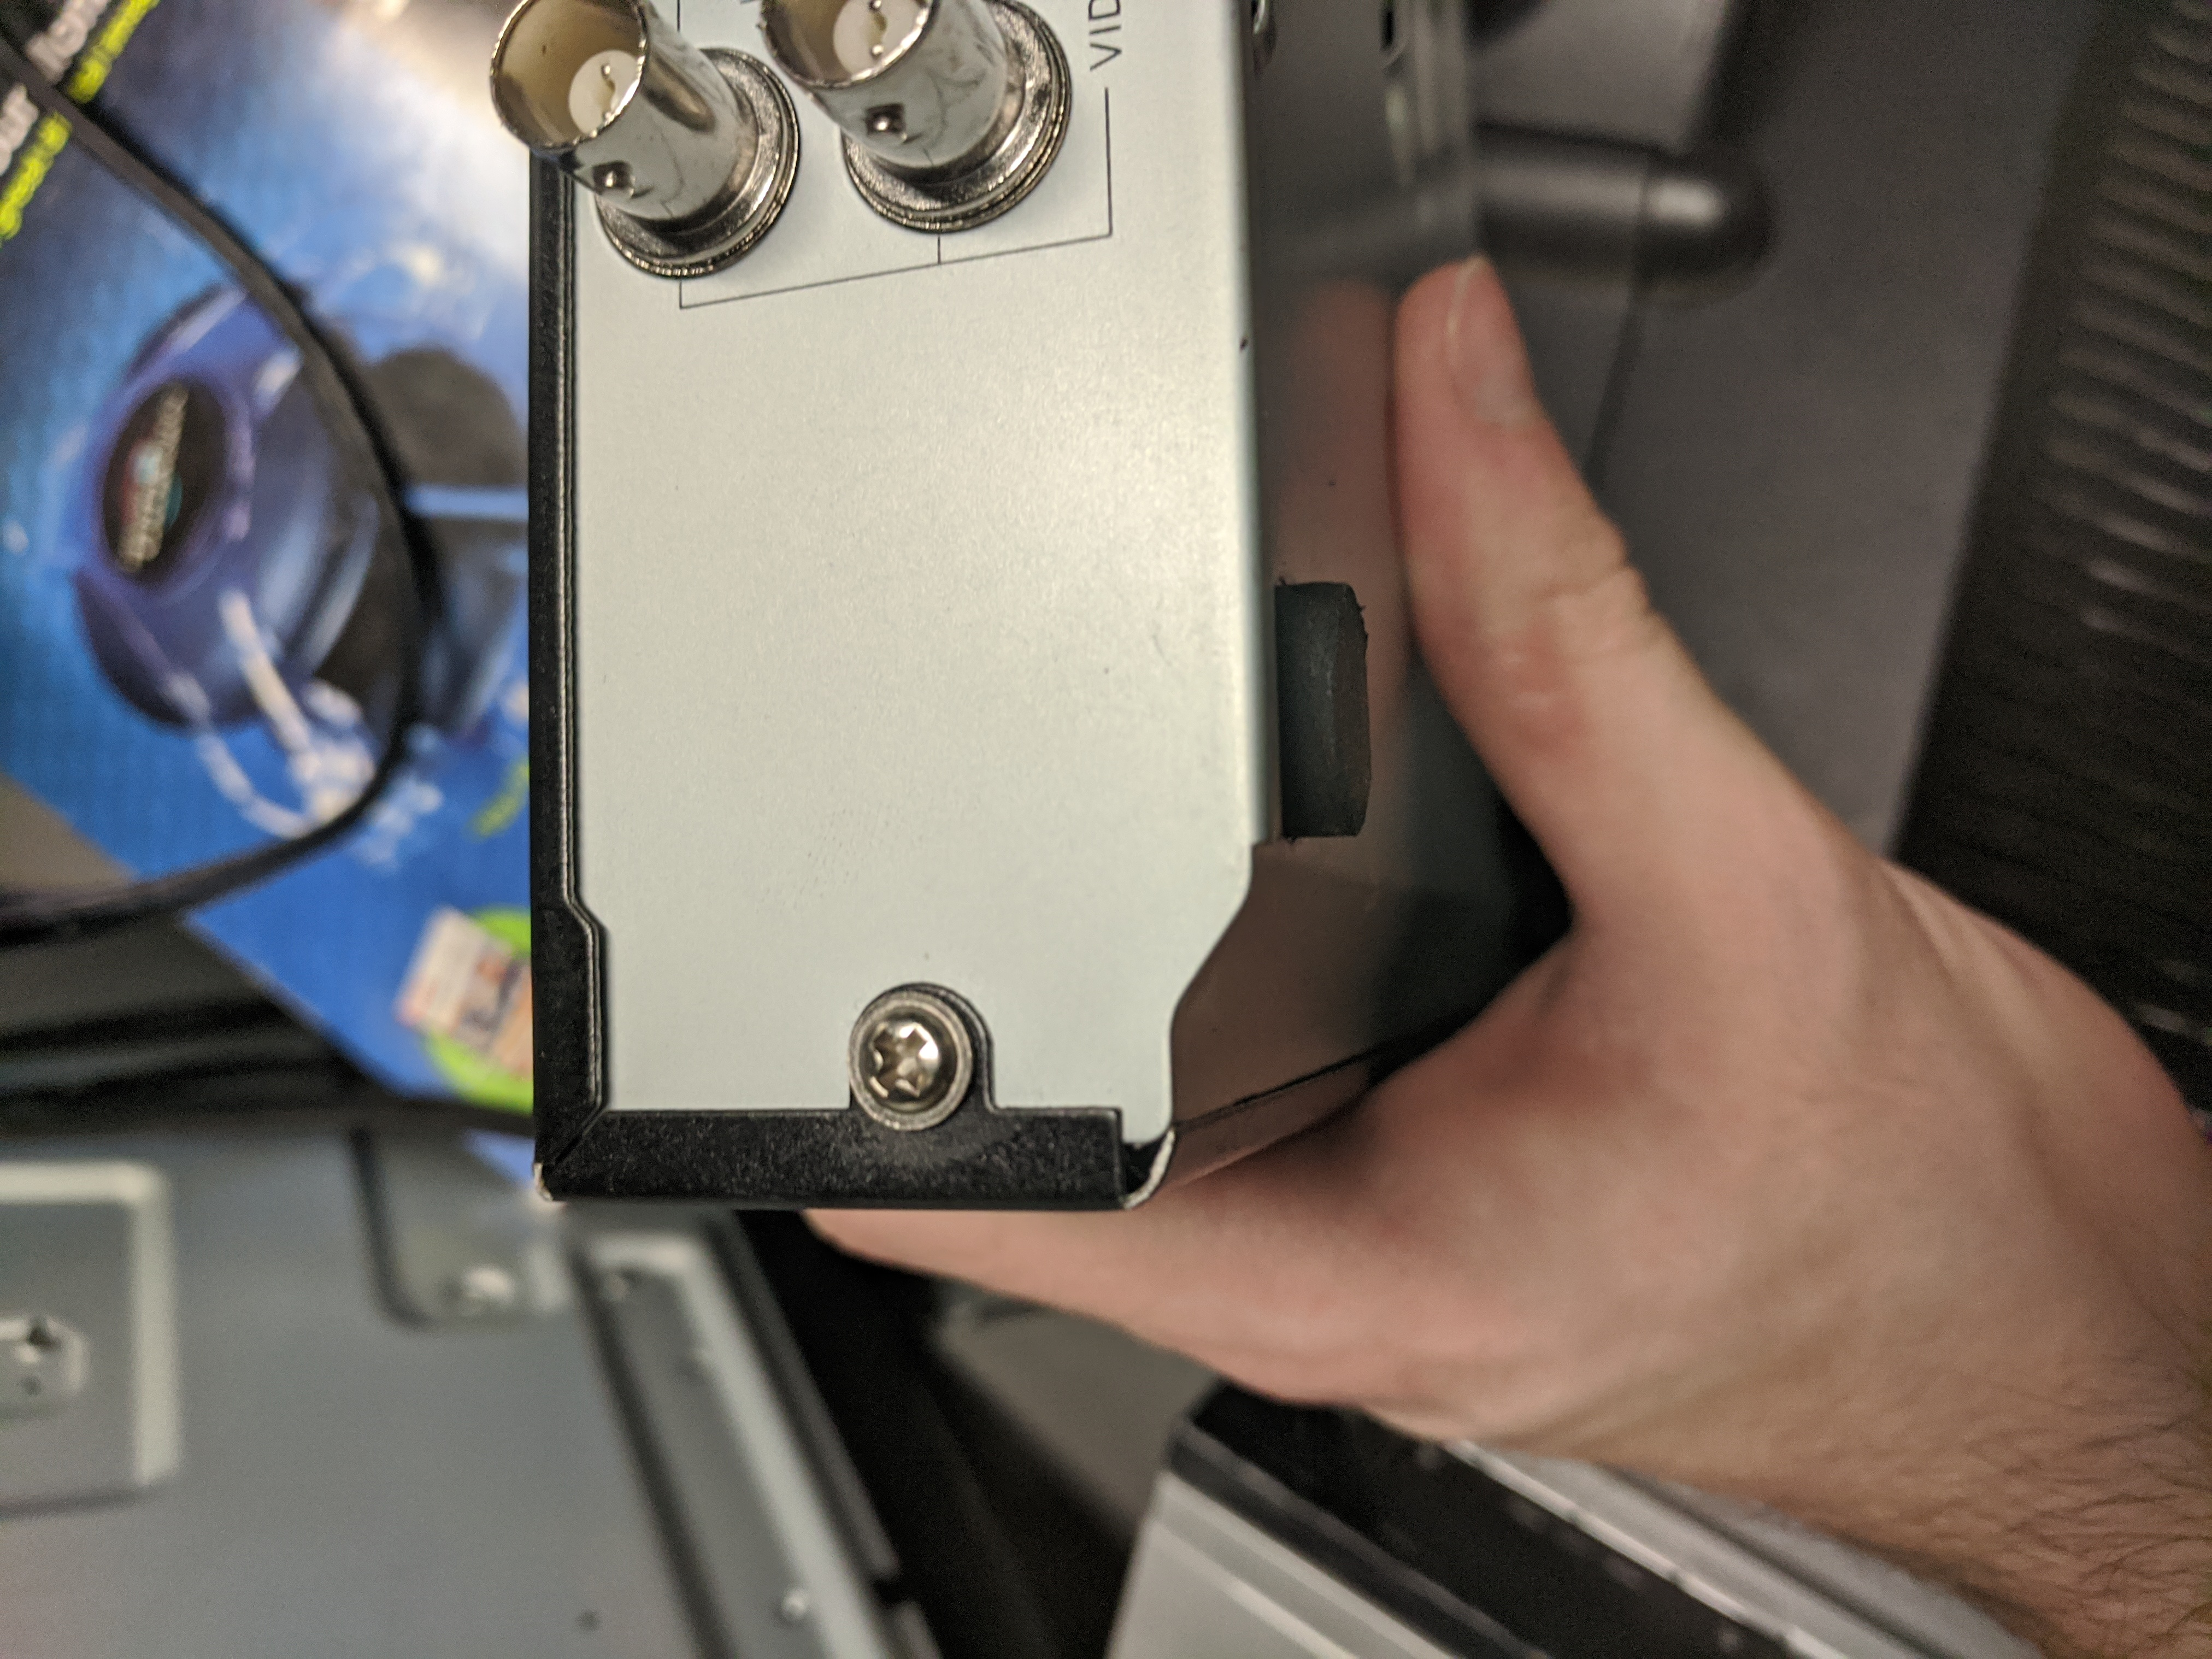cross_recessed_screw: (843, 999, 961, 1114)
